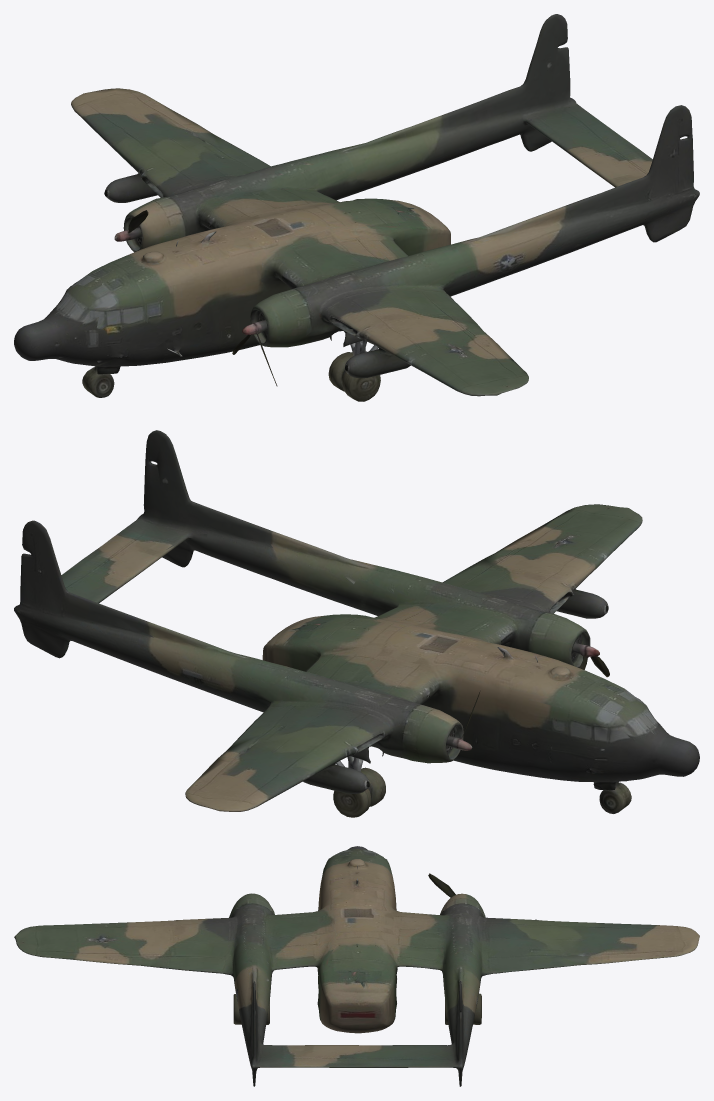
3 views of the same model, one above another, from view 1: azimuth 30°, elevation 25°; view 2: azimuth 150°, elevation 25°; view 3: azimuth 270°, elevation 25° (orthographic). The views are drawn at different scales.
Parts seen in each view (by area): view 1: tripo_node_a6e5dbfa; view 2: tripo_node_a6e5dbfa; view 3: tripo_node_a6e5dbfa.
Part boxes in pixels (bbox=[...]): tripo_node_a6e5dbfa: bbox=[14, 14, 699, 401]; tripo_node_a6e5dbfa: bbox=[14, 430, 699, 817]; tripo_node_a6e5dbfa: bbox=[14, 846, 699, 1086].
Bounding box in the file's own units: 28.99 × 9.31 × 33.31.
Materials: 1 (1 with a texture image).
